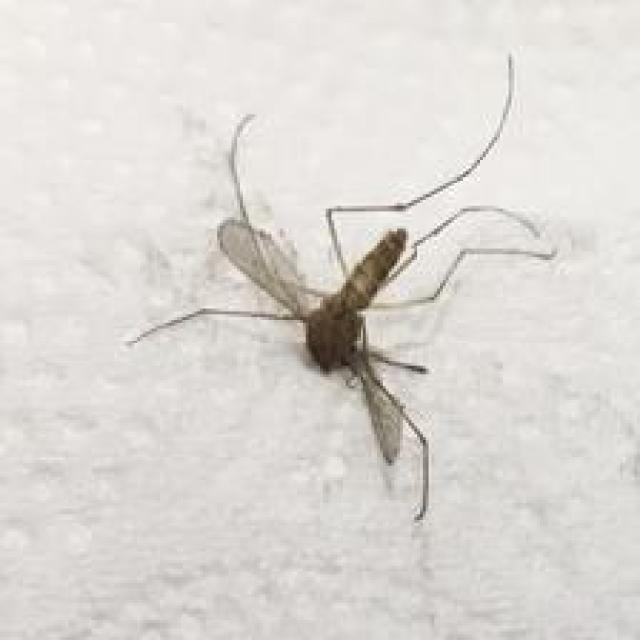Culex: (124, 51, 559, 523)
